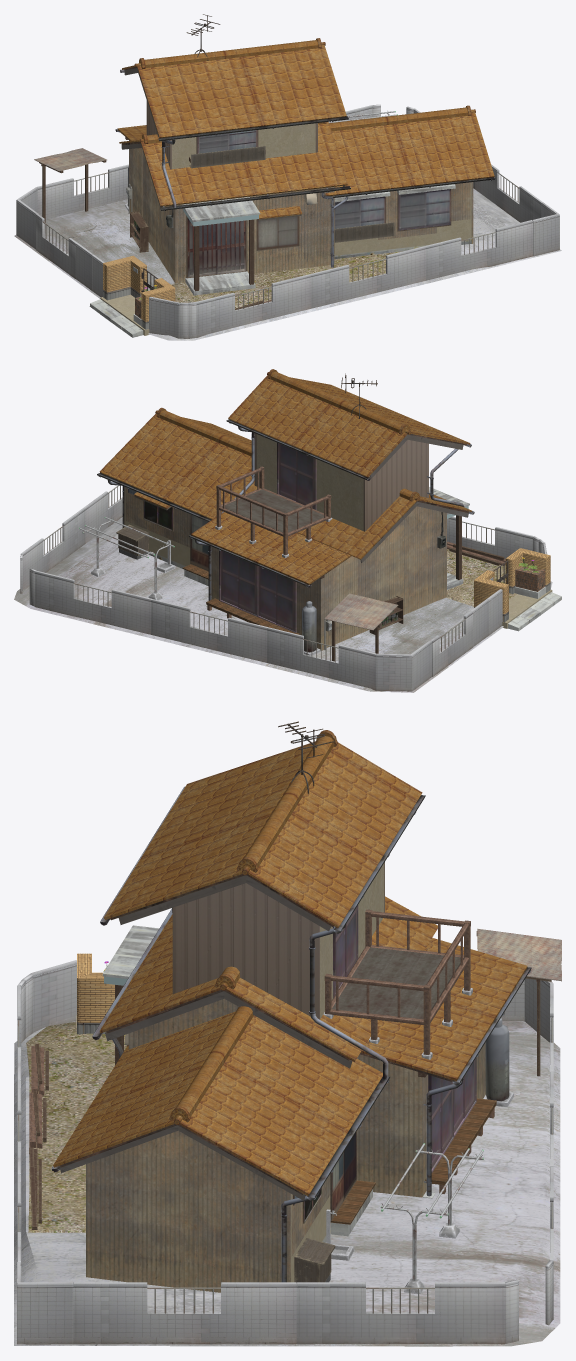
File: houseset09.fbx
The picture shows the model from 3 angles, top to bottom: view 1: azimuth 30°, elevation 25°; view 2: azimuth 150°, elevation 25°; view 3: azimuth 270°, elevation 25°; orthographic projection. The views are drawn at different scales.
Visible parts, largest first — view 1: houseset09; view 2: houseset09; view 3: houseset09.
Boxes of the visible parts, x1,y1,x2,y2 form: houseset09: [14, 14, 561, 340]; houseset09: [14, 369, 561, 692]; houseset09: [14, 721, 561, 1346].
Bounding box in the file's own units: 1373 × 940 × 796.
Materials: 18 (18 with a texture image).
